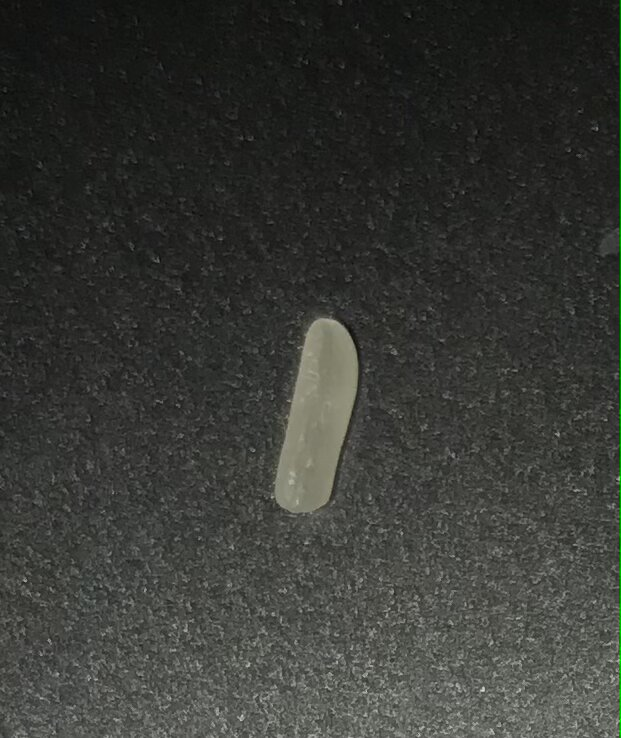Gao Long Lai: (267, 307, 362, 516)
